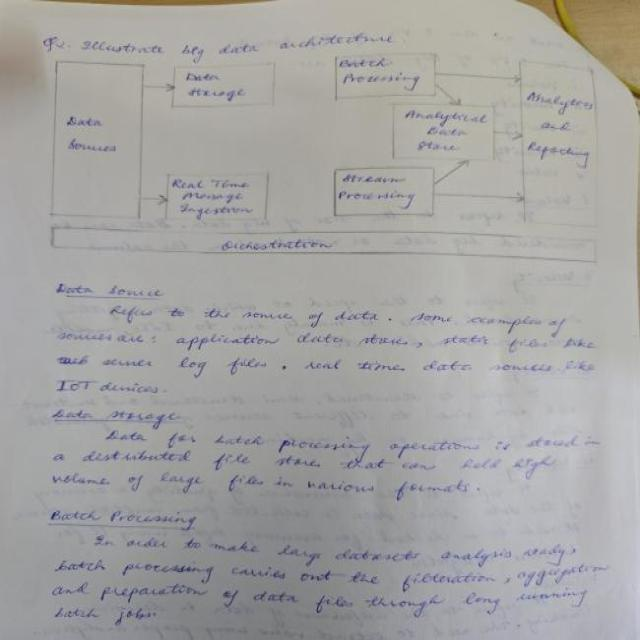Figure Detection - v3 Dataset Version2: (34, 46, 616, 271)
